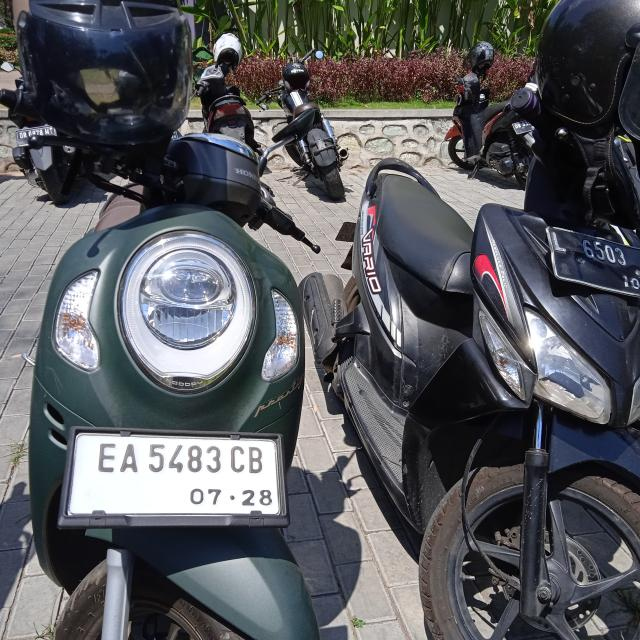plate: (66, 430, 292, 524), (545, 226, 640, 298)
